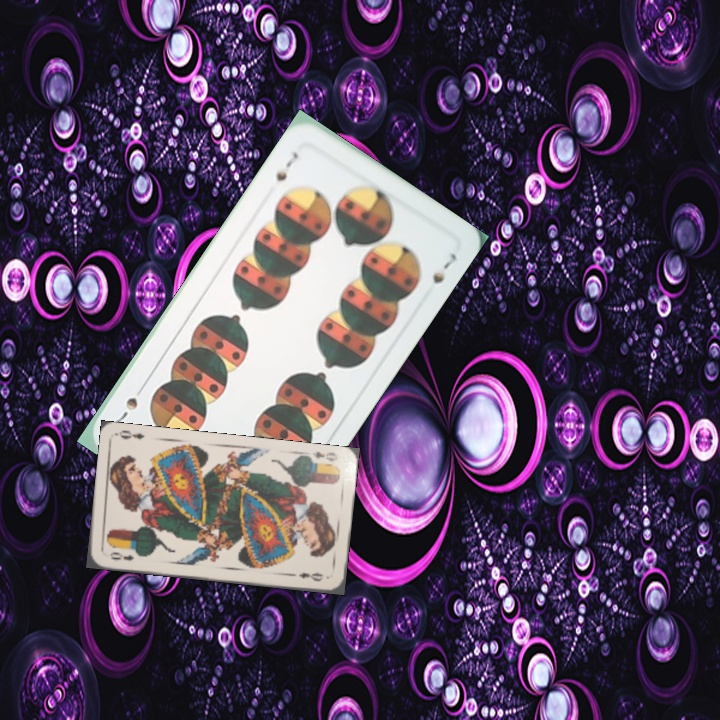EO: (309, 447, 341, 464), (106, 548, 136, 563)
S7: (272, 148, 301, 184)
